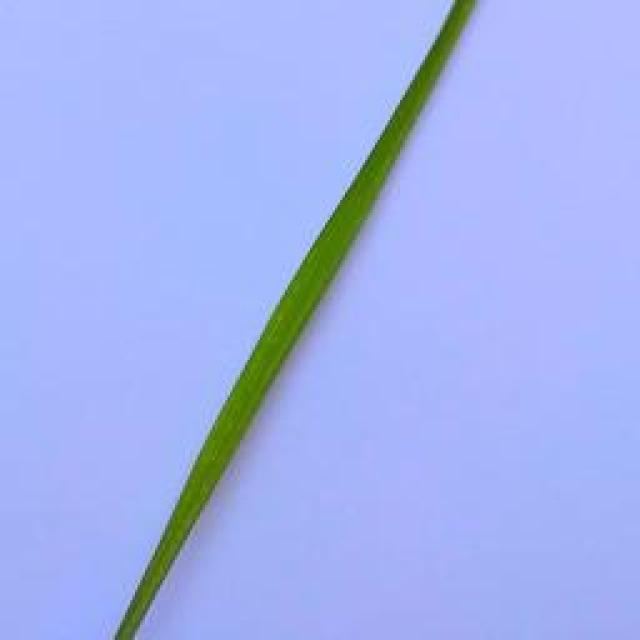Healthy-Plant: (116, 0, 475, 640)
